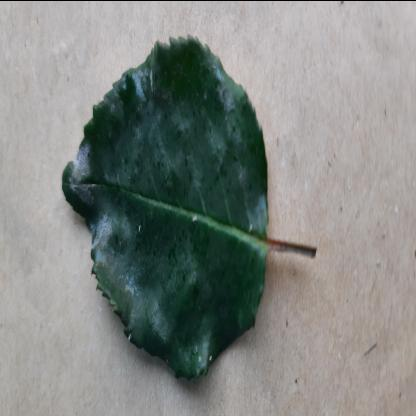powdery-mildew: (58, 29, 272, 380)
